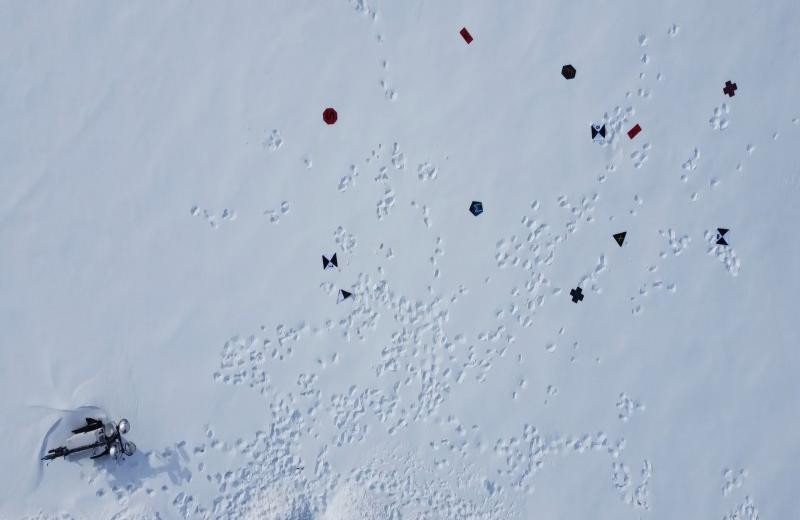Cross: (568, 284, 586, 304), (722, 80, 738, 97)
Hexagon: (560, 63, 577, 81)
Octagon: (322, 106, 338, 126)
Pentagon: (468, 199, 484, 217)
Rectangle: (458, 25, 475, 47), (626, 120, 643, 140)
Triangle: (612, 232, 628, 248)
